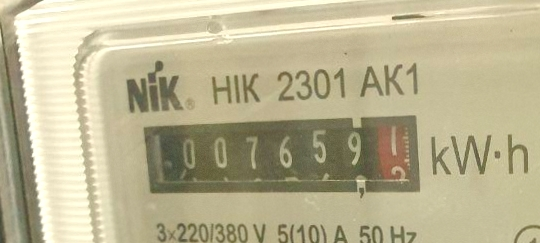0: (209, 131, 230, 172), (178, 134, 199, 172)
1: (382, 121, 402, 158)
5: (307, 126, 330, 166)
6: (273, 130, 296, 171)
7: (240, 131, 263, 170)
9: (343, 127, 365, 167)
screen: (133, 109, 426, 203)
